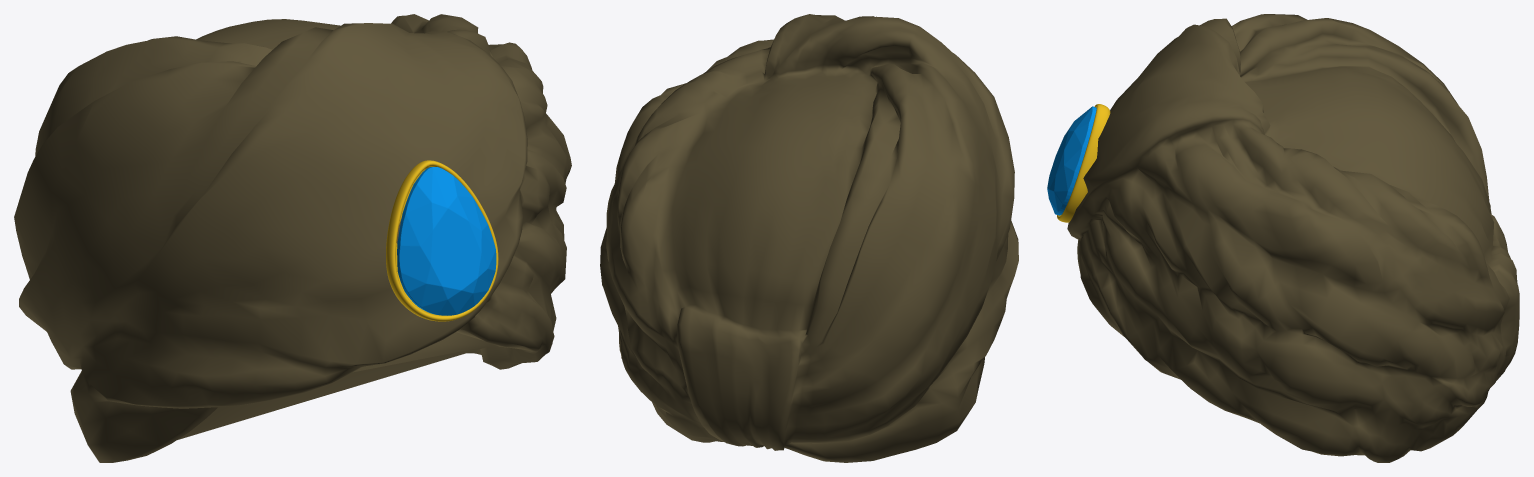
The model's file is Kavuk_v4.fbx.
The picture shows the model from 3 angles, left to right: view 1: azimuth 30°, elevation 25°; view 2: azimuth 150°, elevation 25°; view 3: azimuth 270°, elevation 25°; orthographic projection. The views are drawn at different scales.
Visible parts, largest first — view 1: full_body, Gem_Drop|Gem_Drop.obj|Dupli|, Gem_Drop|Gem_Drop_Mount|Dupli|1; view 2: full_body; view 3: full_body, Gem_Drop|Gem_Drop.obj|Dupli|, Gem_Drop|Gem_Drop_Mount|Dupli|1.
Part boxes in pixels (x1,y1,x2,y2): full_body: (14,14,571,462); Gem_Drop|Gem_Drop.obj|Dupli|: (397,167,496,315); Gem_Drop|Gem_Drop_Mount|Dupli|1: (386,160,498,321); full_body: (600,14,1018,462); full_body: (1067,14,1519,462); Gem_Drop|Gem_Drop.obj|Dupli|: (1047,106,1096,215); Gem_Drop|Gem_Drop_Mount|Dupli|1: (1057,104,1110,222).
Size of the model in its own units: 32.31 by 31.09 by 35.87.
